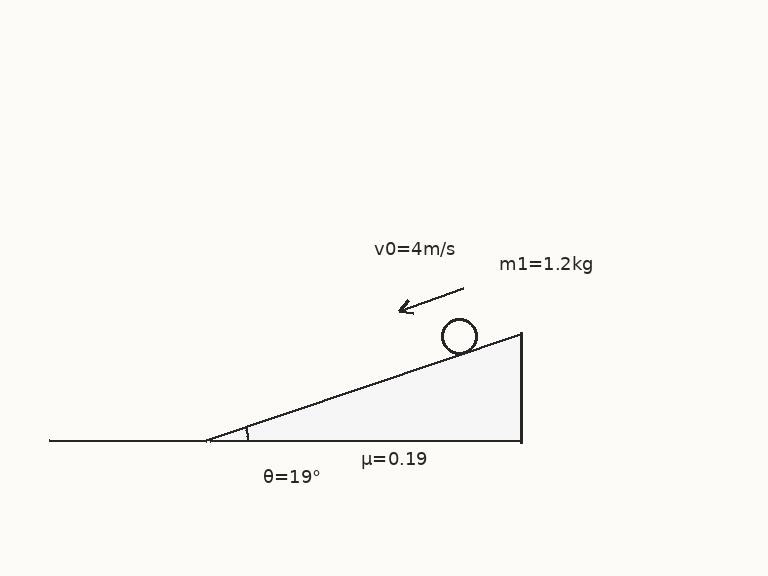ball: (439, 316, 479, 356)
ramp: (206, 331, 523, 443)
